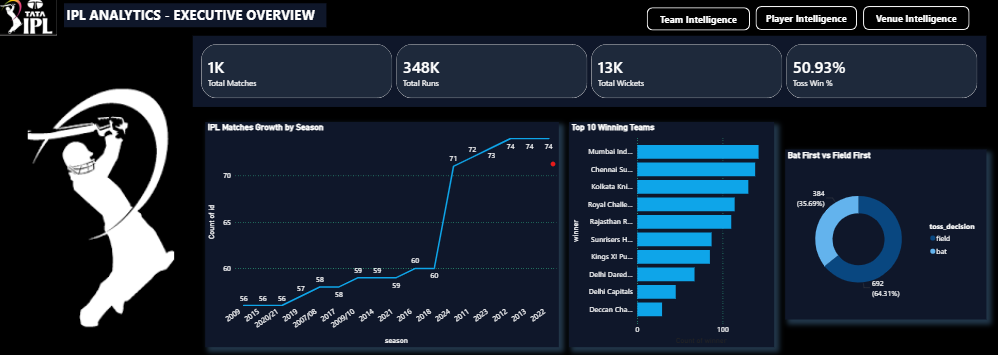

What the dashboard file says about the page in this screenshot:
{"tool":"powerbi","page":{"name":"Executive Overview","canvas":[2000,720],"ordinal":0},"visuals":[{"type":"actionButton","box":[1289.3,14.3,218.3,58.3],"z":0},{"type":"actionButton","box":[1507.7,12.7,215,60],"z":1000},{"type":"actionButton","box":[1722.7,12.7,225,60],"z":2000},{"type":"image","box":[0,0,115,76.7],"z":3000},{"type":"textbox","box":[130,13.3,525,48.3],"z":4000},{"type":"cardVisual","fields":{"Data":["ipl_analytics matches.Total Matches","ipl_analytics deliveries.Total Runs","ipl_analytics deliveries.Total Wickets","ipl_analytics matches.Toss Win %"]},"box":[387.5,77.5,1587.5,142.5],"z":5000},{"type":"lineChart","title":"IPL Matches Growth by Season","fields":{"Category":["ipl_analytics matches.season"],"Y":["CountNonNull(ipl_analytics matches.id)"]},"box":[412.5,250,707.5,450],"z":6000},{"type":"clusteredBarChart","title":"Top 10 Winning Teams","fields":{"Category":["ipl_analytics matches.winner"],"Y":["CountNonNull(ipl_analytics matches.winner)"]},"box":[1140,250,410,450],"z":7000},{"type":"donutChart","title":"Bat First vs Field First","fields":{"Category":["ipl_analytics matches.toss_decision"],"Y":["CountNonNull(ipl_analytics matches.id)"]},"box":[1572.5,305,402.5,340],"z":8000},{"type":"image","box":[57.5,182.5,292.5,480],"z":9000}]}

Visuals, with their boxes in screenshot pixels (x1, y1, x2, y2), scaled from the page's 2000x720 canvas onto the 998x355 screenshot:
actionButton: left=643, top=7, right=752, bottom=36
actionButton: left=752, top=6, right=860, bottom=36
actionButton: left=860, top=6, right=972, bottom=36
image: left=0, top=0, right=57, bottom=38
textbox: left=65, top=7, right=327, bottom=30
cardVisual - ipl_analytics matches.Total Matches x ipl_analytics deliveries.Total Runs: left=193, top=38, right=986, bottom=108
"IPL Matches Growth by Season" lineChart: left=206, top=123, right=559, bottom=345
"Top 10 Winning Teams" clusteredBarChart: left=569, top=123, right=773, bottom=345
"Bat First vs Field First" donutChart: left=785, top=150, right=986, bottom=318
image: left=29, top=90, right=175, bottom=327
